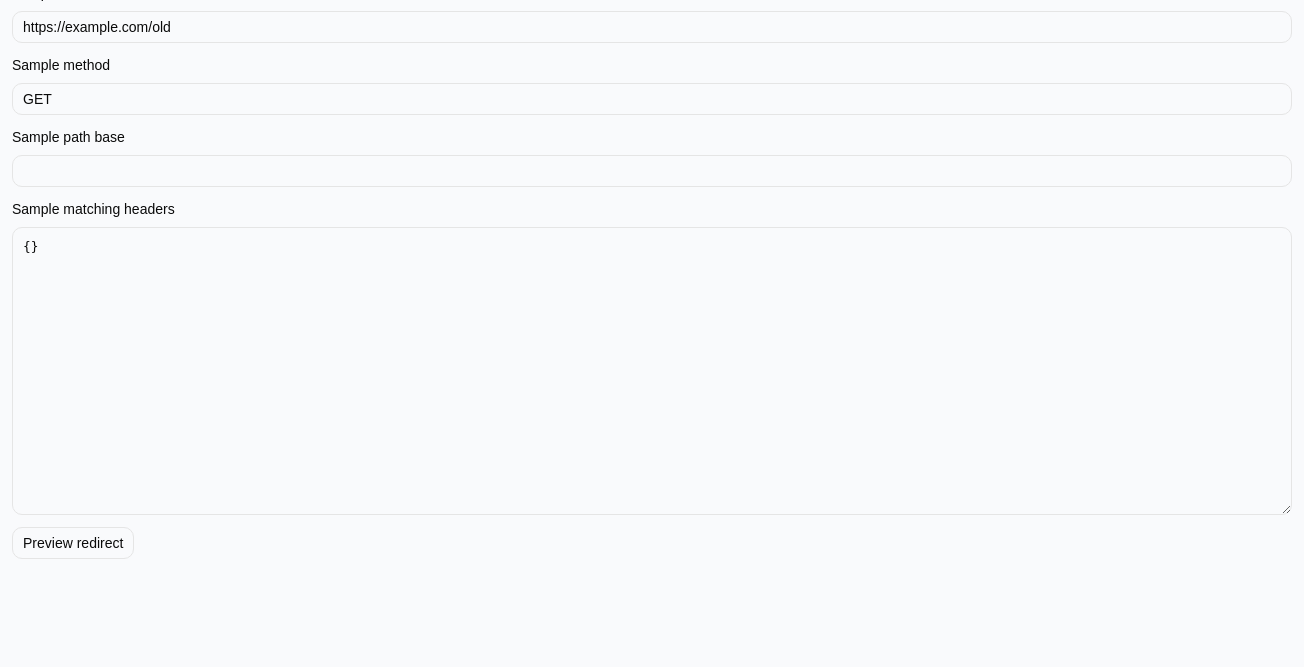
Test case: shows evaluation errors without creating destination links
Step 1. Click the button "Preview redirect" → (73, 543), box [12,527,134,559]
(page scrolled)
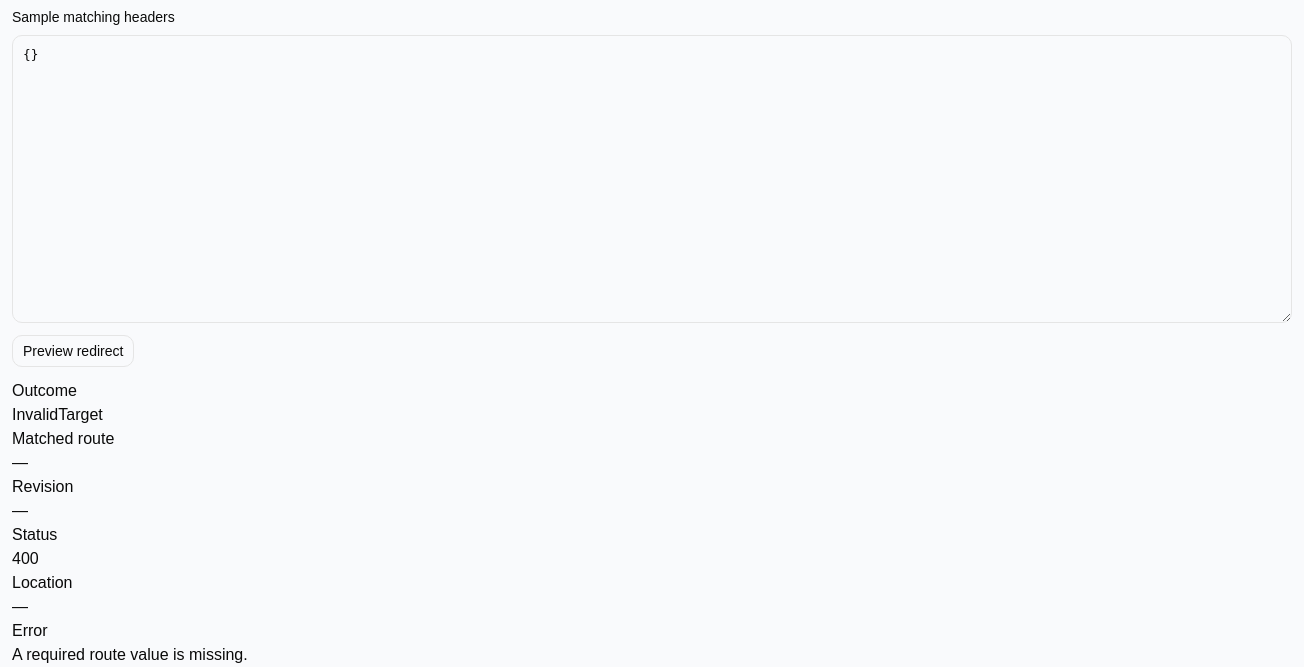
Now the text "A required route value is missing." is shown, box [12,646,248,663]
